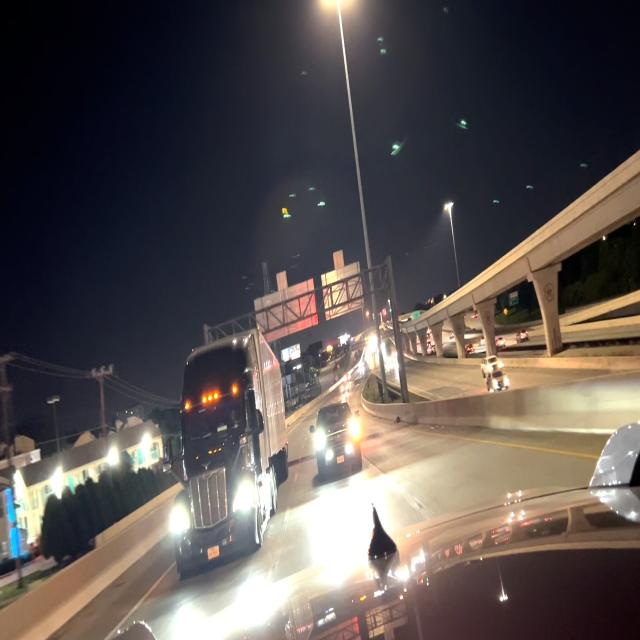back-of-sign: (253, 270, 318, 345), (322, 250, 365, 322)
